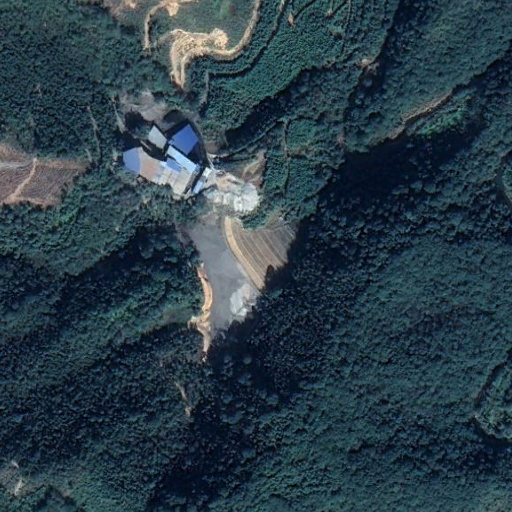tp: (187, 206, 296, 364)
